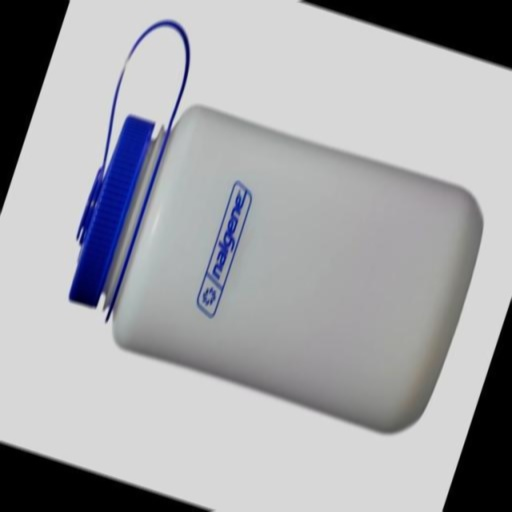bottle: (24, 0, 512, 458)
